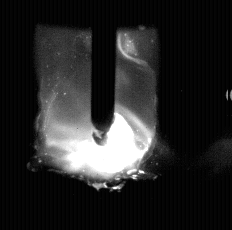arame: (92, 0, 116, 146)
poca: (38, 0, 158, 230)
